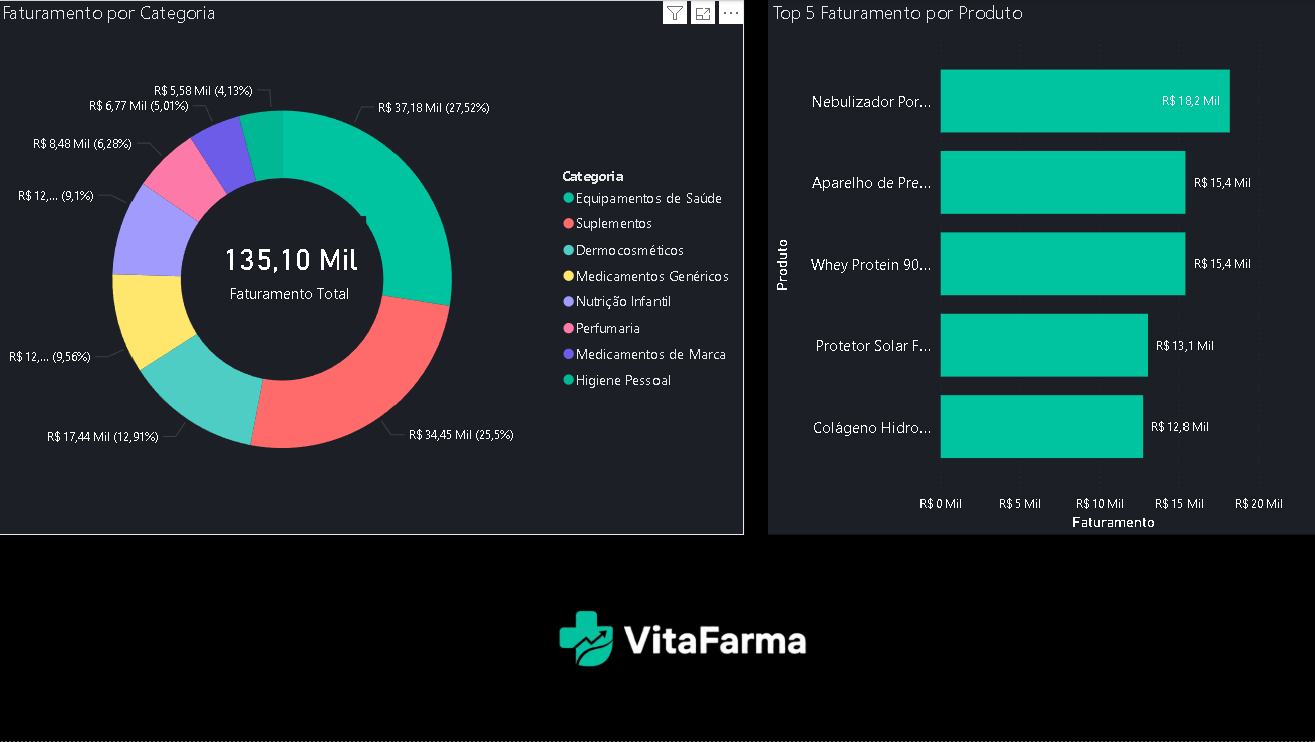

Layout of this report page (visuals, bound fields, positions):
{"tool":"powerbi","page":{"name":"Produtos e Categorias","canvas":[1280,720],"ordinal":1},"visuals":[{"type":"donutChart","fields":{"Category":["categorias.nome_categoria"],"Y":["itens_venda.Faturamento"]},"box":[0,0,723.6,520.4],"z":0},{"type":"card","fields":{"Values":["itens_venda.Faturamento"]},"box":[210.1,210.1,147.8,101.2],"z":1000},{"type":"barChart","title":"Top 5 Faturamento por Produto","fields":{"Category":["produtos.nome_produto"],"Y":["itens_venda.Faturamento"]},"box":[747,0,533,520.4],"z":2000},{"type":"image","box":[480.5,523.3,364.7,196.5],"z":3000}]}

Visuals, with their boxes in screenshot pixels (x1, y1, x2, y2), scaled from the page's 1280x720 canvas onto the 1315x742 screenshot:
donutChart - categorias.nome_categoria x itens_venda.Faturamento: crop(0, 0, 743, 536)
card - itens_venda.Faturamento: crop(216, 217, 368, 321)
"Top 5 Faturamento por Produto" barChart: crop(767, 0, 1314, 536)
image: crop(494, 539, 868, 741)
